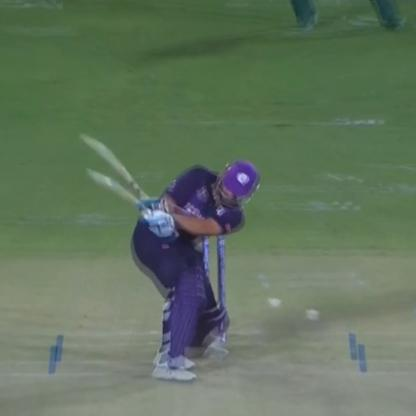ball: (304, 304, 325, 327), (264, 292, 282, 312)
bat: (80, 122, 170, 220)
pitch: (9, 300, 410, 416)
